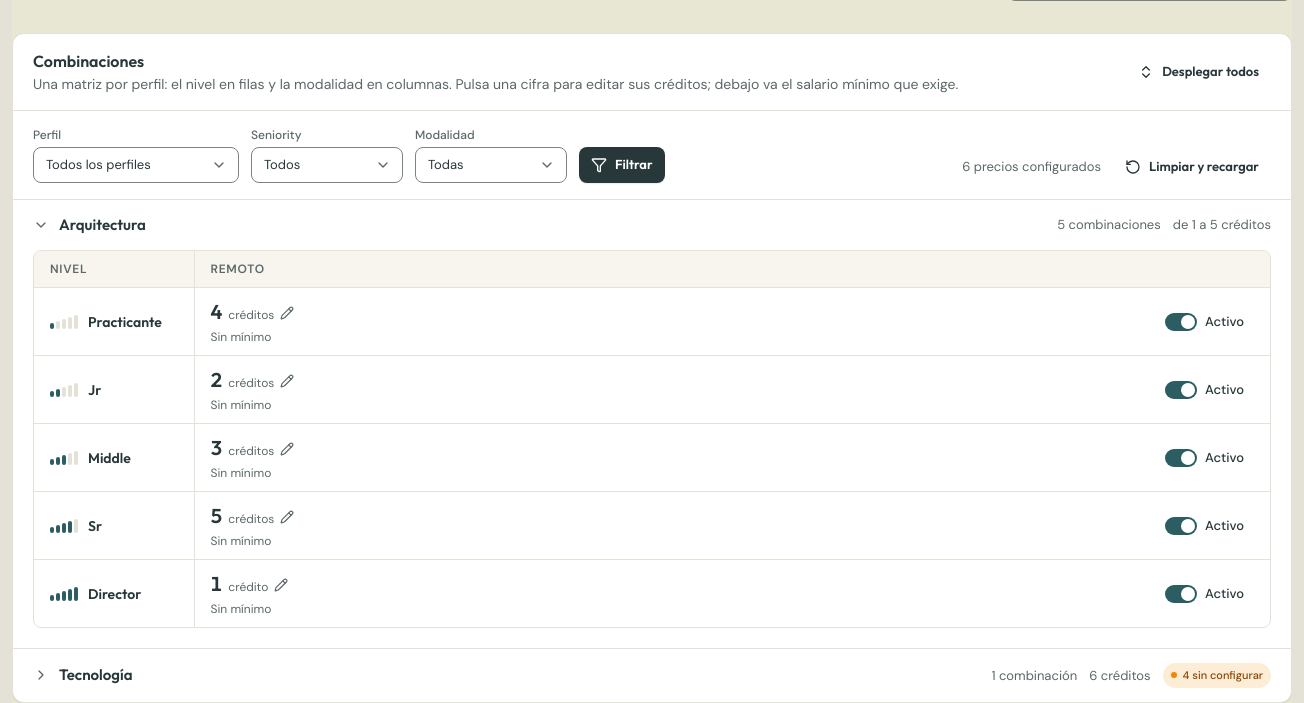
/admin/pricing › matriz: agrupa por perfil, ordena el nivel en escalera y abre sólo el primero
(page scrolled)
expect the table "Créditos de Tecnología" is not shown: met
Click the button "Tecnología 1 combinación 6 créditos 4 sin configurar": (96, 675) x1=13 y1=649 x2=1291 y2=702
(page scrolled)
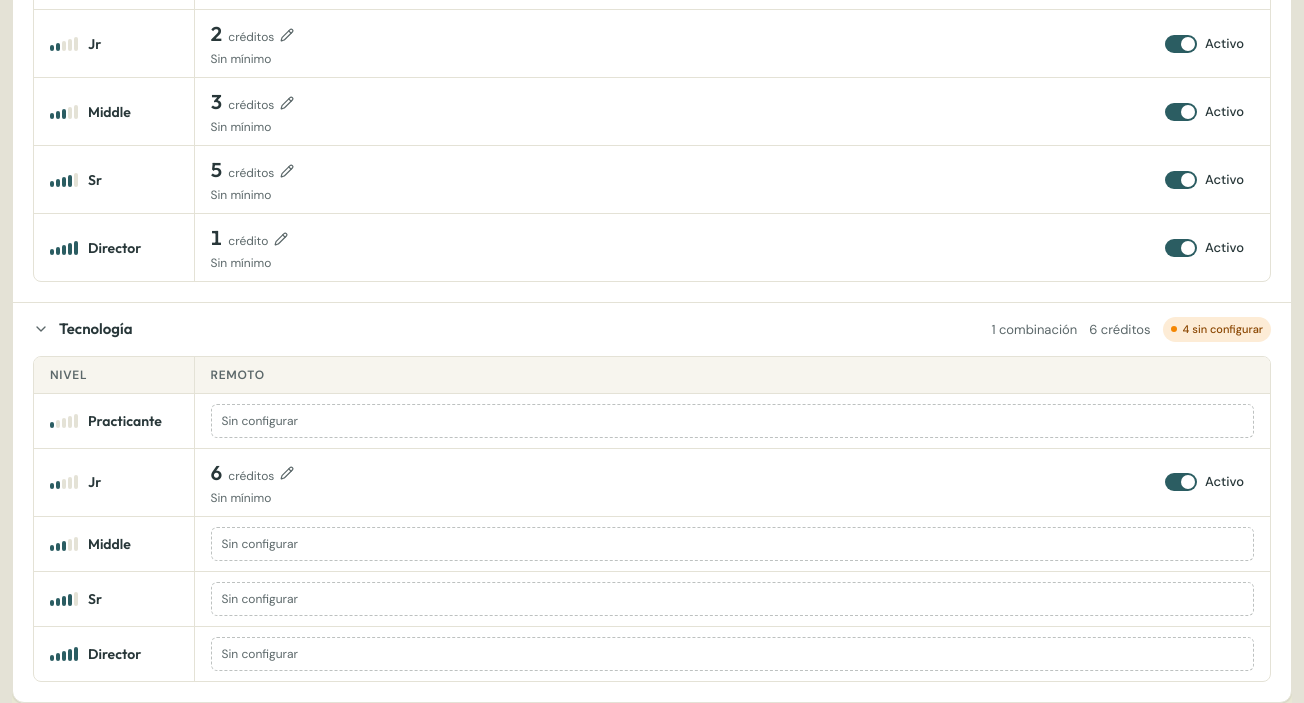
expect the button "Tecnología 1 combinación 6 créditos 4 sin configurar" is expanded: met, box x1=13 y1=303 x2=1291 y2=356
expect the table named "Créditos de Tecnología" is shown: met, box x1=34 y1=357 x2=1270 y2=681
